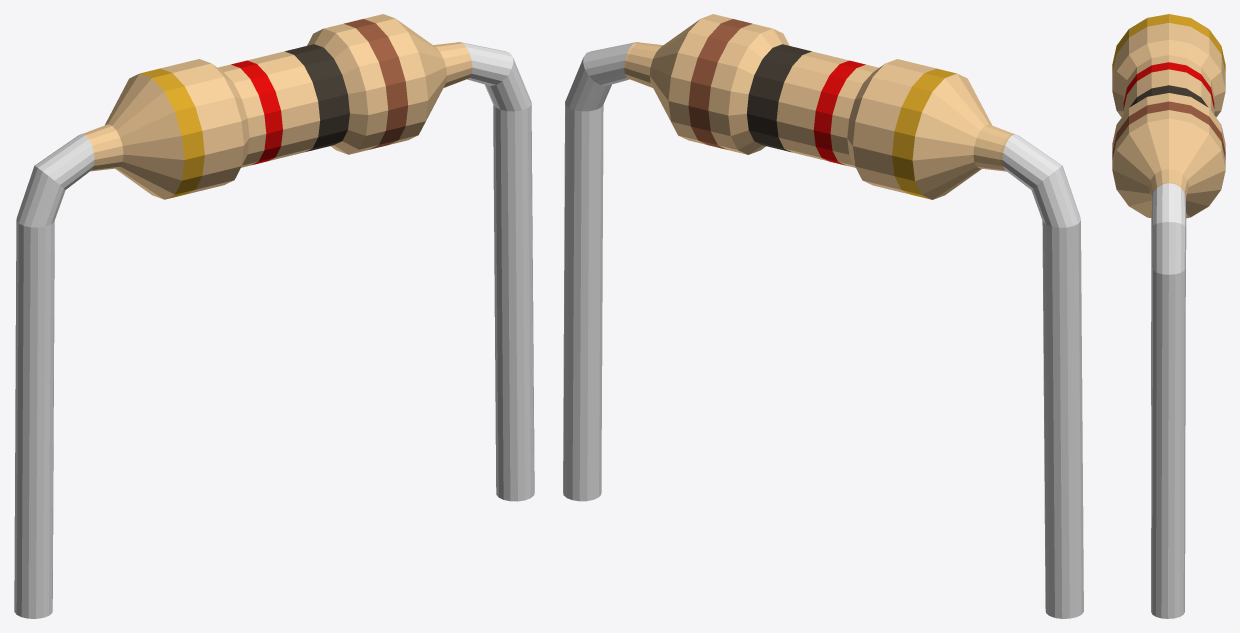
The model's file is 1K-Ohm-Resistor.fbx.
3 renders of one model, left to right at view 1: azimuth 30°, elevation 25°; view 2: azimuth 150°, elevation 25°; view 3: azimuth 270°, elevation 25°, orthographic. The views are drawn at different scales.
Visible parts, largest first — view 1: Resistor.000; view 2: Resistor.000; view 3: Resistor.000.
Boxes of the visible parts, x1=… form: Resistor.000: x1=14, y1=14, x2=534, y2=618; Resistor.000: x1=563, y1=14, x2=1083, y2=618; Resistor.000: x1=1112, y1=14, x2=1225, y2=618.
Bounding box in the file's own units: 276 × 258 × 60.
